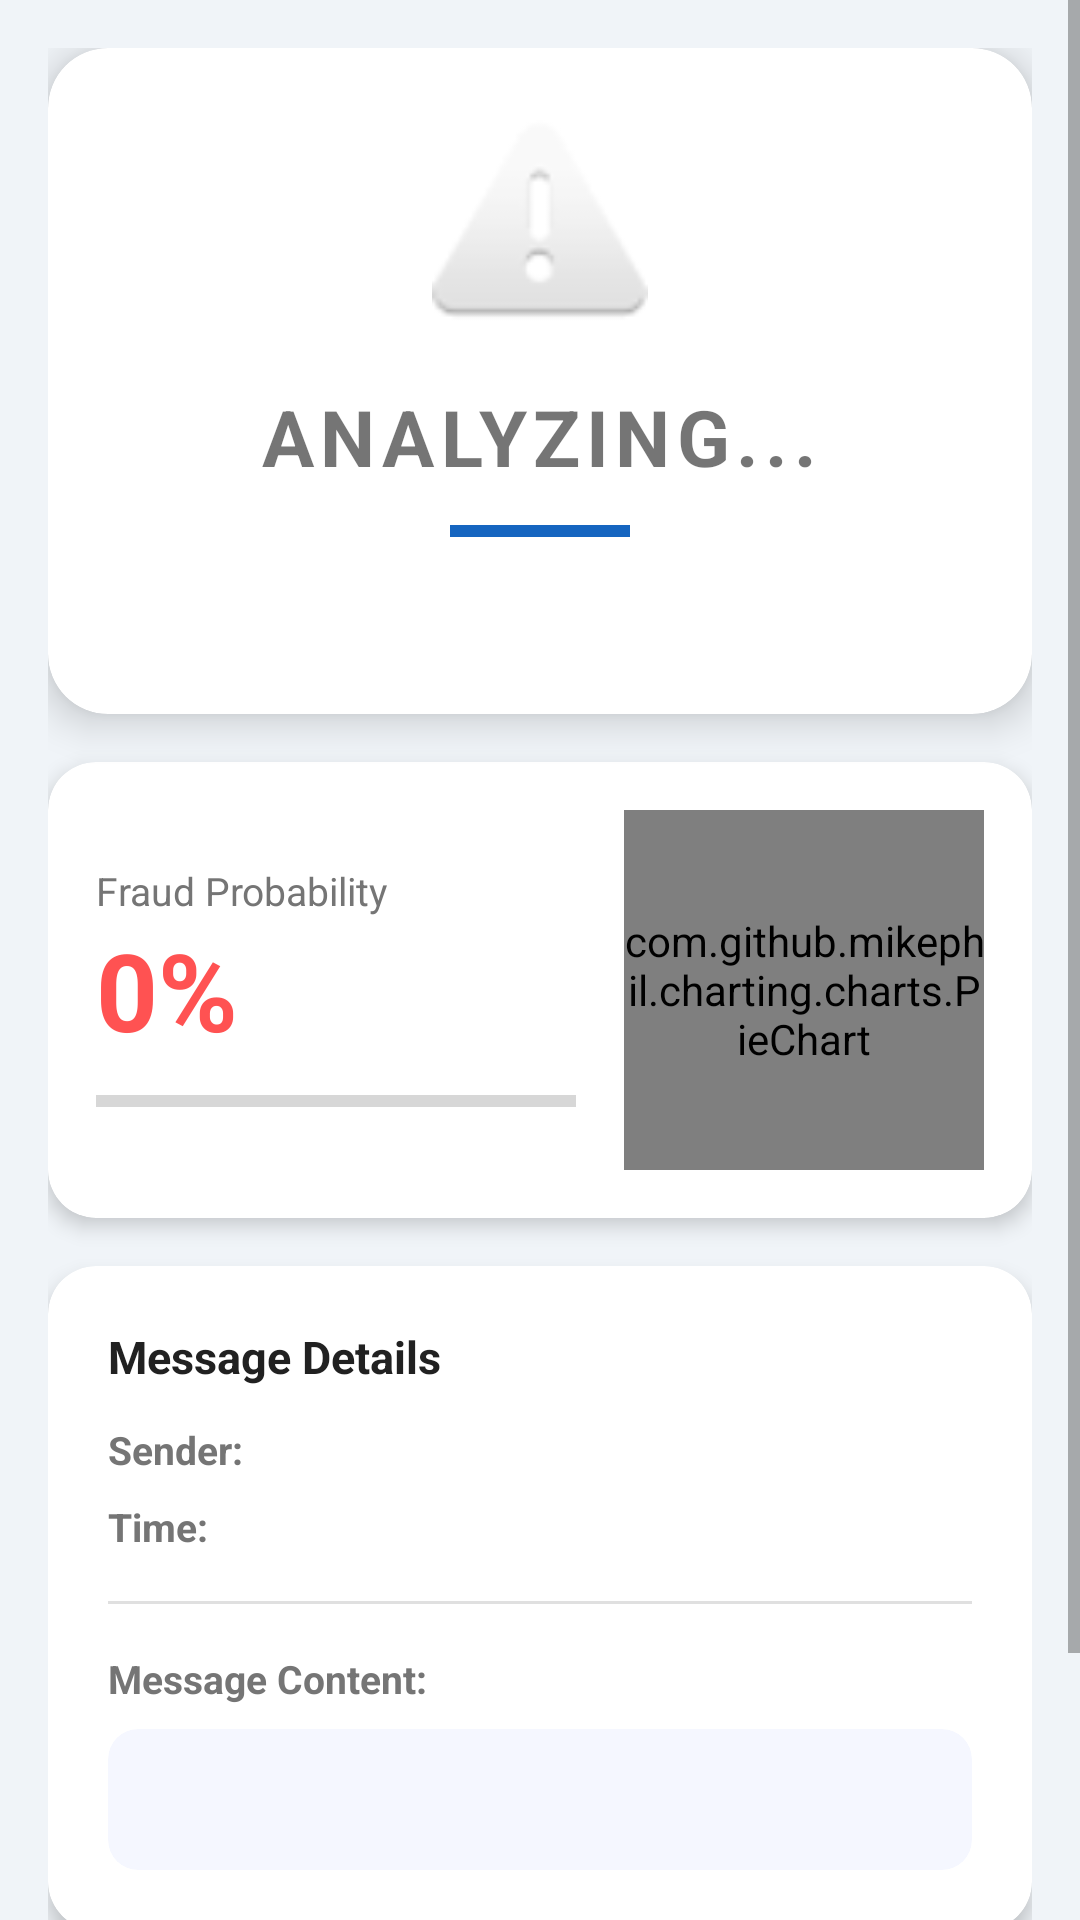

Named icons in this screenshot (1080 x 1920) and their centers, (x,y):
Result icon: (540,243)
